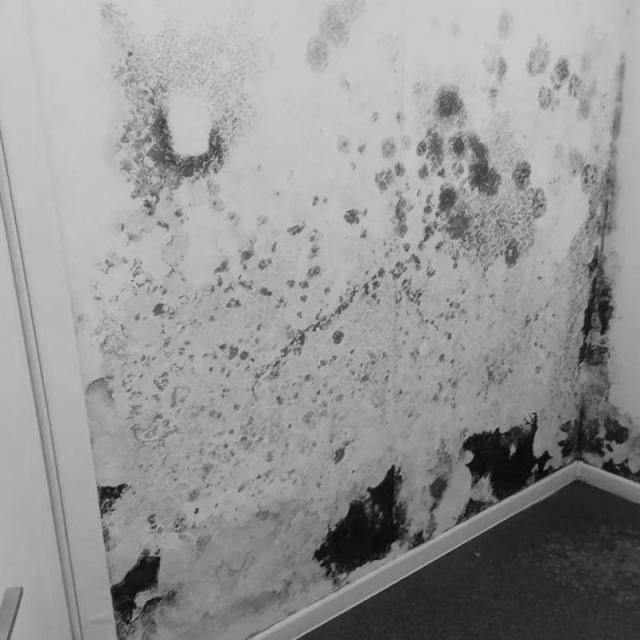stain marks: (82, 2, 639, 640)
